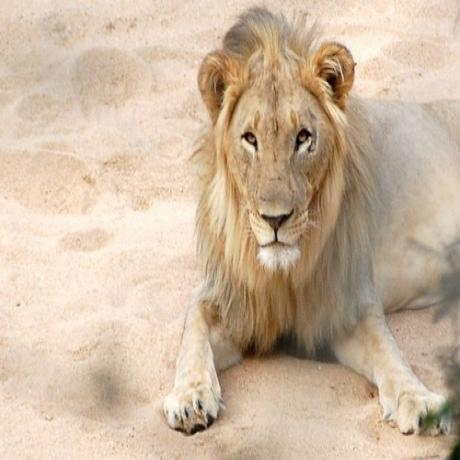Lion: (163, 8, 460, 439)
